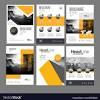paper: (4, 0, 97, 93)
